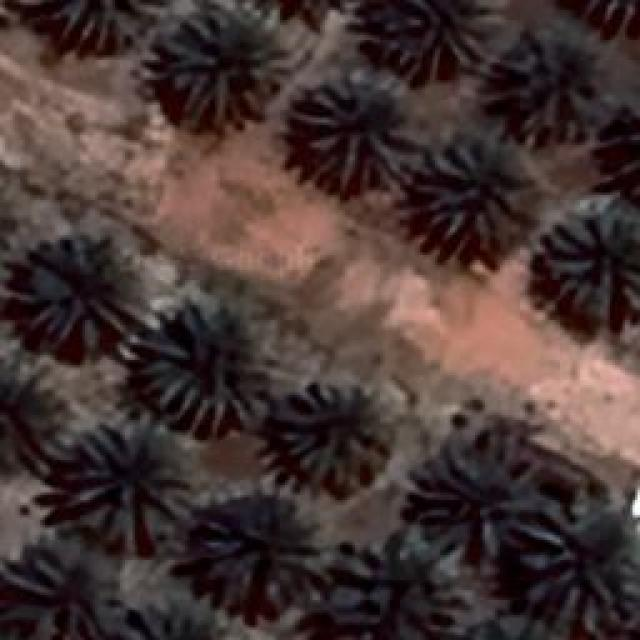PalmTree: (134, 300, 278, 435), (62, 418, 200, 550), (290, 65, 428, 190), (12, 230, 146, 352), (328, 528, 470, 638), (520, 498, 638, 628), (415, 128, 535, 255), (160, 5, 280, 130), (272, 380, 390, 490), (542, 200, 638, 335), (202, 508, 330, 593), (430, 435, 530, 543), (375, 0, 503, 80), (514, 36, 618, 134), (2, 547, 116, 635), (0, 371, 58, 484), (115, 593, 242, 640), (42, 0, 156, 48), (594, 94, 640, 193), (444, 608, 576, 640), (549, 0, 640, 40), (0, 173, 26, 281)
